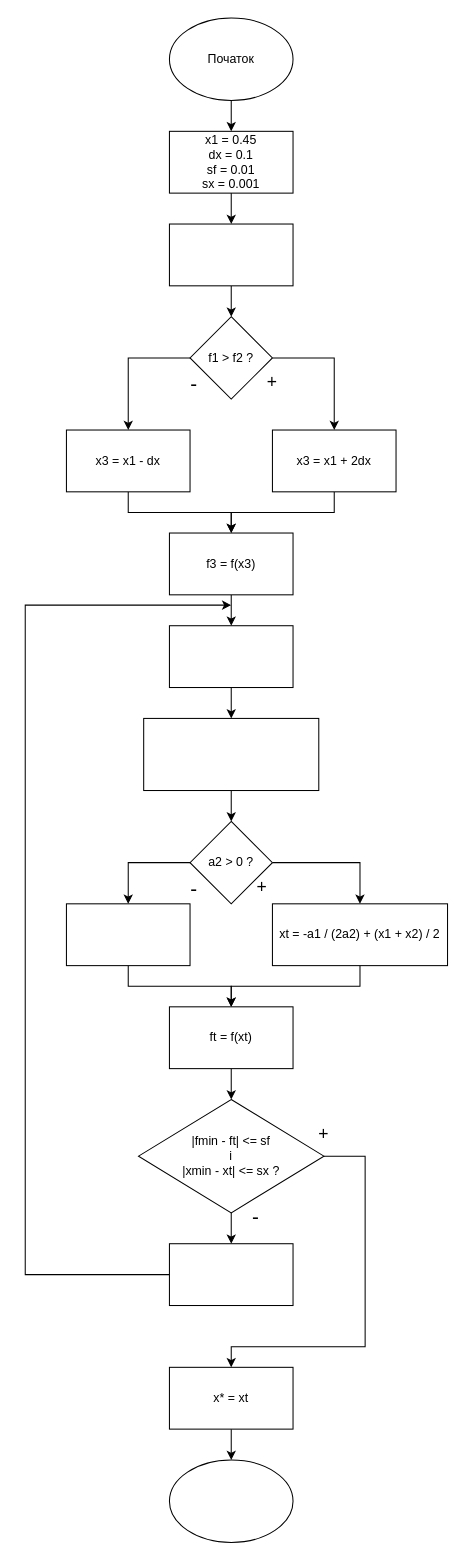
Some shapes in this 466 by 1560 pixel diagram are drawn without their labels. Here are the shapes that lost their labels. From the top down, the centre of each, then its label:
At point (230, 254): "x2 = x1 + dx f1 = f(x1) f2 = f(x2)".
At point (230, 656): "Знайти: fmin, xmin fmax, xmax".
At point (231, 754): "a1 = (f2 - f1) / (x2 - x1) a2 = ((f3 - f1) / (x3 - x1) - a1) / (x3 - x2)".
At point (127, 934): "xt = 2xmin - xmax".
At point (230, 1274): "xmax = xt fmax = ft".
At point (230, 1500): "Кінець".
